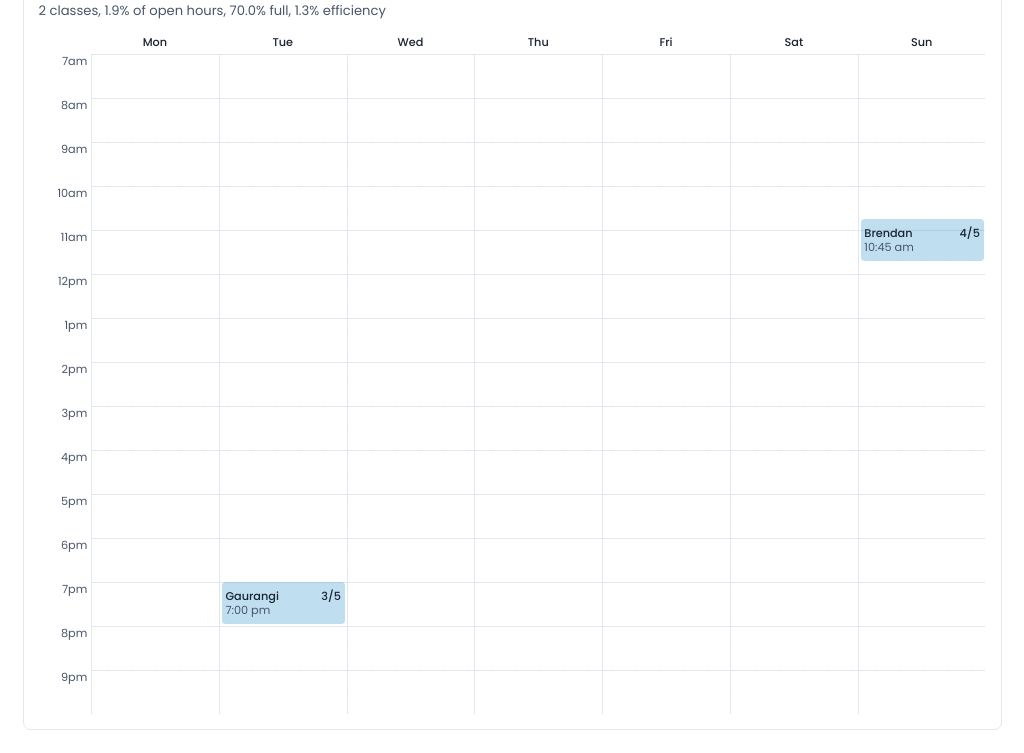
room efficiency usage page › counts workbook classes alongside portal classes and lists their students
(page scrolled)
Click the button "Gaurangi 3/5 7:00 pm" at point(283, 603), box [222, 582, 345, 624]
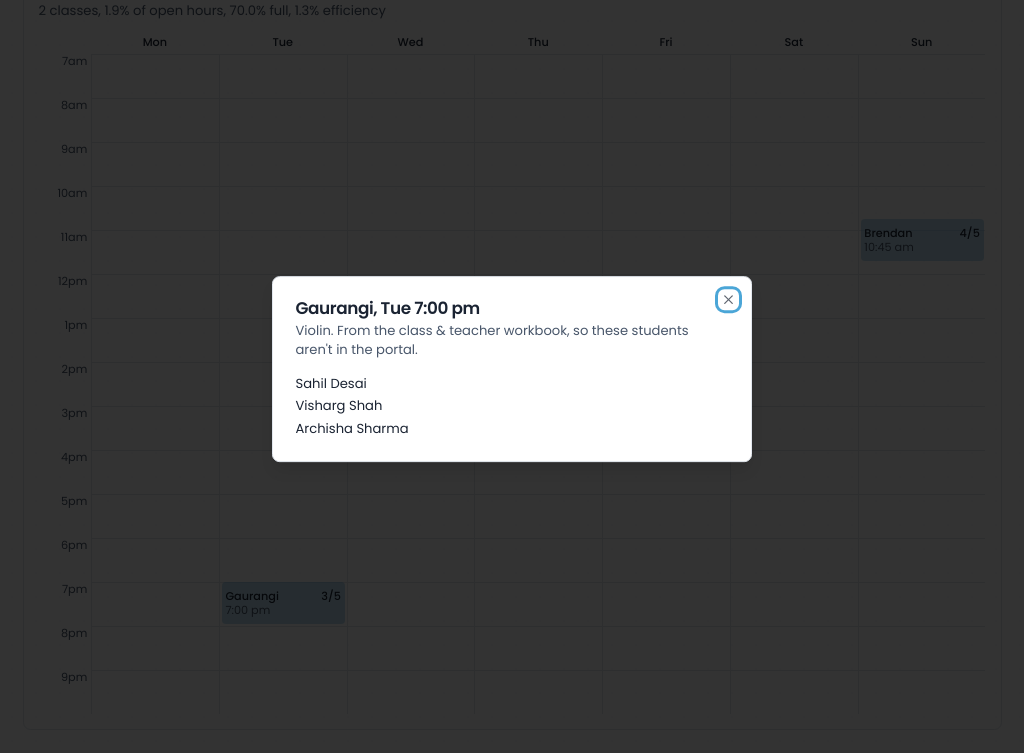
Check: the list item "Visharg Shah" is shown, box [296, 396, 382, 415]
